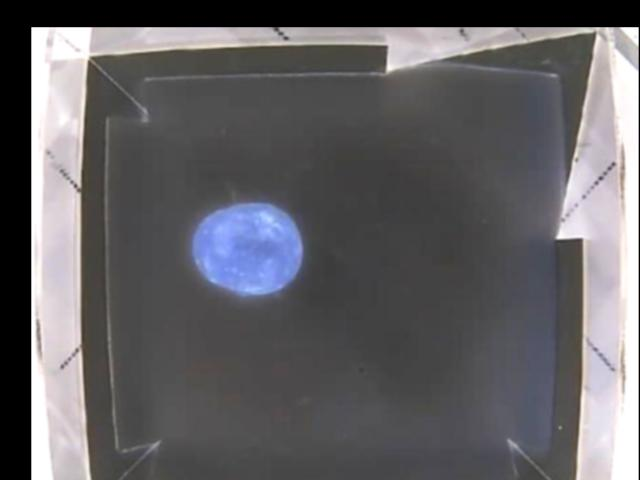Potato: (188, 201, 301, 293)
